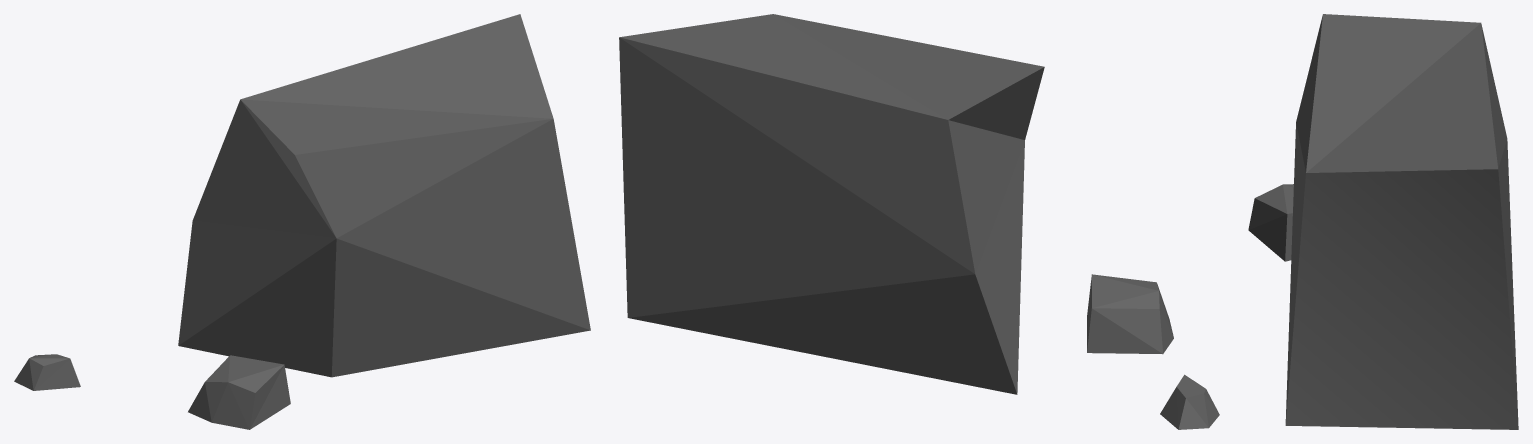
The model's file is Stone_Rail_07.FBX.
3 views of the same model, side by side, from view 1: azimuth 30°, elevation 25°; view 2: azimuth 150°, elevation 25°; view 3: azimuth 270°, elevation 25° (orthographic). The views are drawn at different scales.
Parts seen in each view (by area): view 1: Stone_Rail_07; view 2: Stone_Rail_07; view 3: Stone_Rail_07.
Part boxes in pixels (x1,y1,x2,y2): Stone_Rail_07: (14, 14, 590, 429); Stone_Rail_07: (619, 14, 1219, 429); Stone_Rail_07: (1248, 14, 1518, 429).
Bounding box in the file's own units: 1.65 × 0.7349 × 0.6668.
